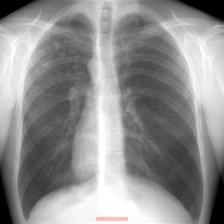tuberculosis: (10, 11, 208, 224)
